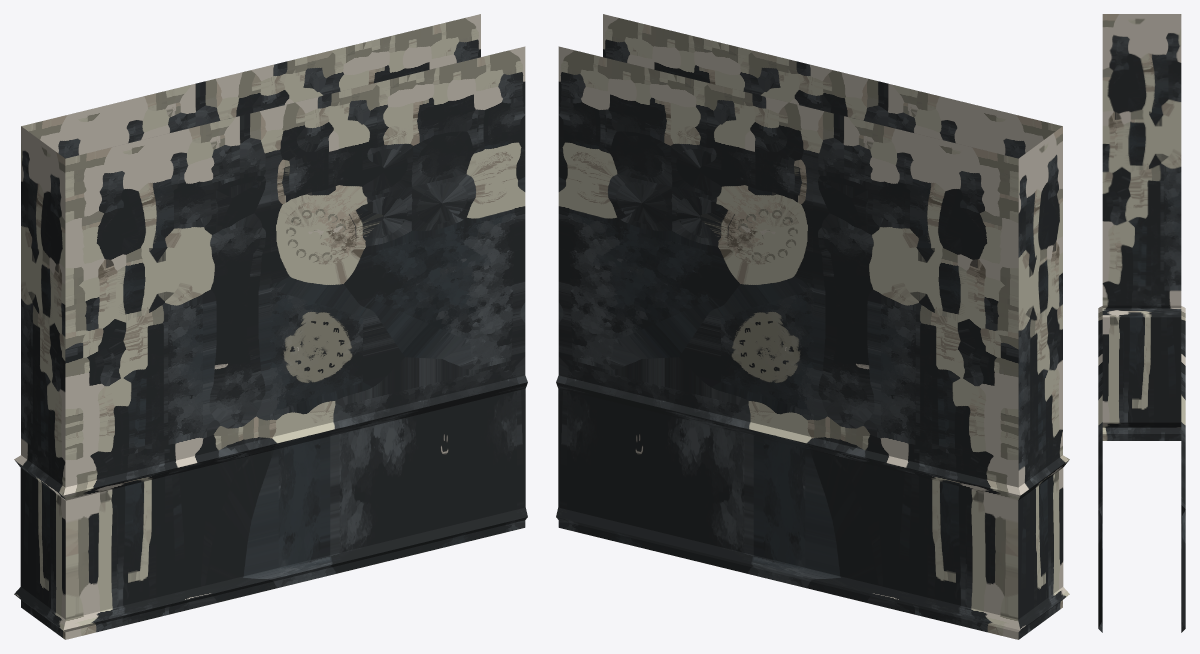
The model's file is kitchen_wall_3.fbx.
3 views of the same model, side by side, from view 1: azimuth 30°, elevation 25°; view 2: azimuth 150°, elevation 25°; view 3: azimuth 270°, elevation 25° (orthographic). The views are drawn at different scales.
Visible parts, largest first — view 1: kitchen wall 3; view 2: kitchen wall 3; view 3: kitchen wall 3.
Boxes of the visible parts, x1=… form: kitchen wall 3: x1=14, y1=14, x2=527, y2=639; kitchen wall 3: x1=556, y1=14, x2=1069, y2=639; kitchen wall 3: x1=1098, y1=14, x2=1185, y2=632.
Bounding box in the file's own units: 606 × 600 × 112.
